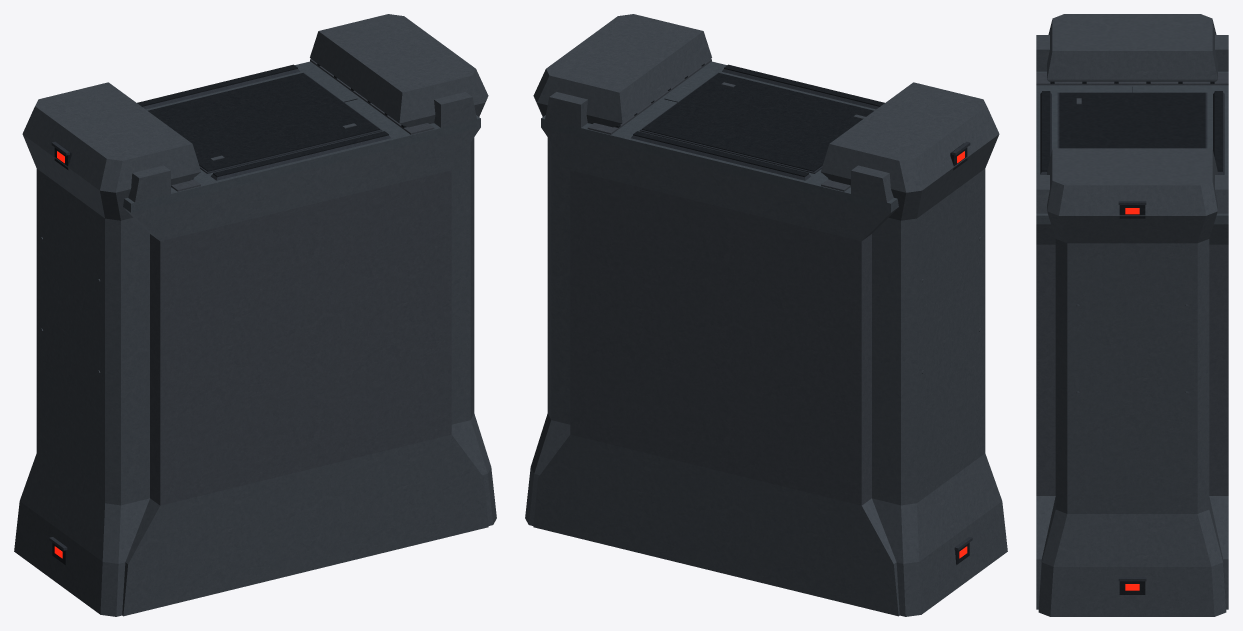
File: half-bay.glb
3 renders of one model, left to right at view 1: azimuth 30°, elevation 25°; view 2: azimuth 150°, elevation 25°; view 3: azimuth 270°, elevation 25°, orthographic. The views are drawn at different scales.
Visible parts, largest first — view 1: half-bay-lod0-base0, half-bay-lod0-floor0, half-bay-lod0-roof0; view 2: half-bay-lod0-base0, half-bay-lod0-floor0, half-bay-lod0-roof0; view 3: half-bay-lod0-roof0, half-bay-lod0-base0, half-bay-lod0-floor0.
Part boxes in pixels (x1=…): half-bay-lod0-base0: x1=14, y1=332, x2=496, y2=616; half-bay-lod0-floor0: x1=36, y1=149, x2=474, y2=424; half-bay-lod0-roof0: x1=22, y1=14, x2=488, y2=241; half-bay-lod0-base0: x1=525, y1=332, x2=1007, y2=616; half-bay-lod0-floor0: x1=547, y1=149, x2=985, y2=424; half-bay-lod0-roof0: x1=533, y1=14, x2=999, y2=241; half-bay-lod0-roof0: x1=1036, y1=14, x2=1228, y2=262; half-bay-lod0-base0: x1=1036, y1=418, x2=1228, y2=616; half-bay-lod0-floor0: x1=1036, y1=244, x2=1228, y2=436.
Size of what is drawn, in the model's own units: 40.96 by 44 by 18.
6 materials, 6 textured.
